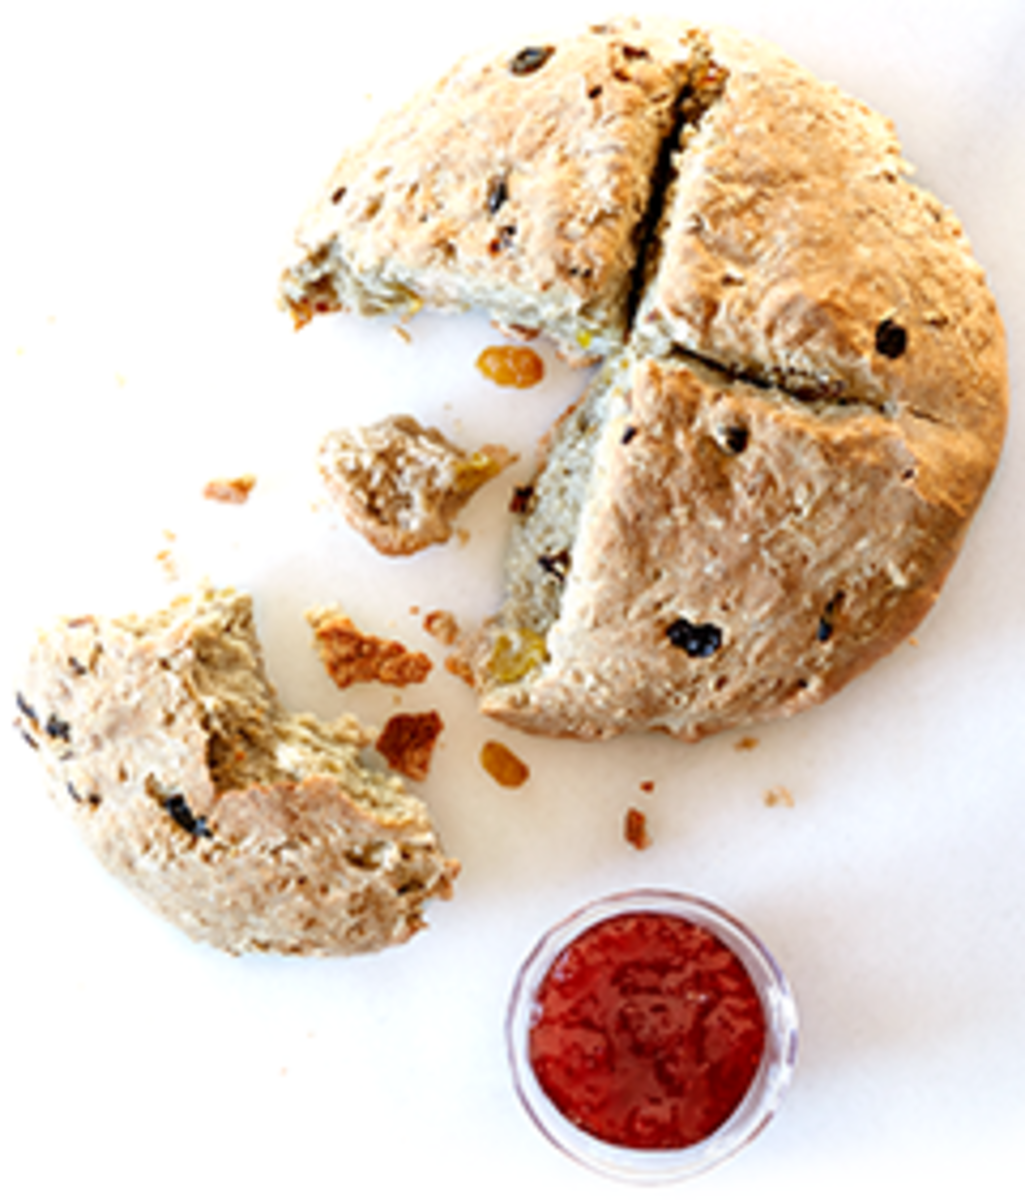slice of bread: (518, 59, 820, 733), (59, 595, 407, 979)
